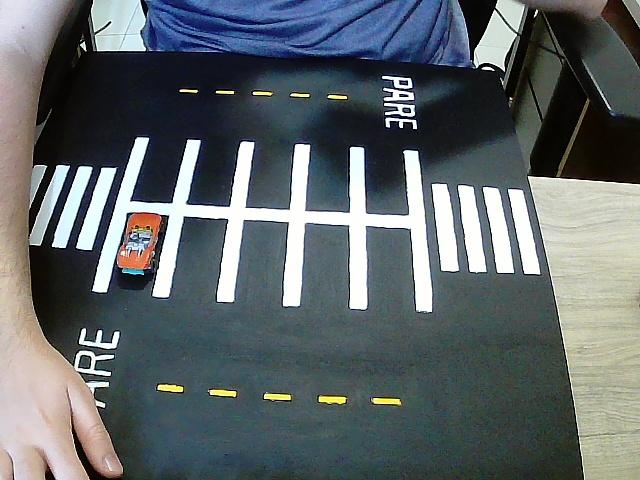Carro: (116, 212, 169, 276)
